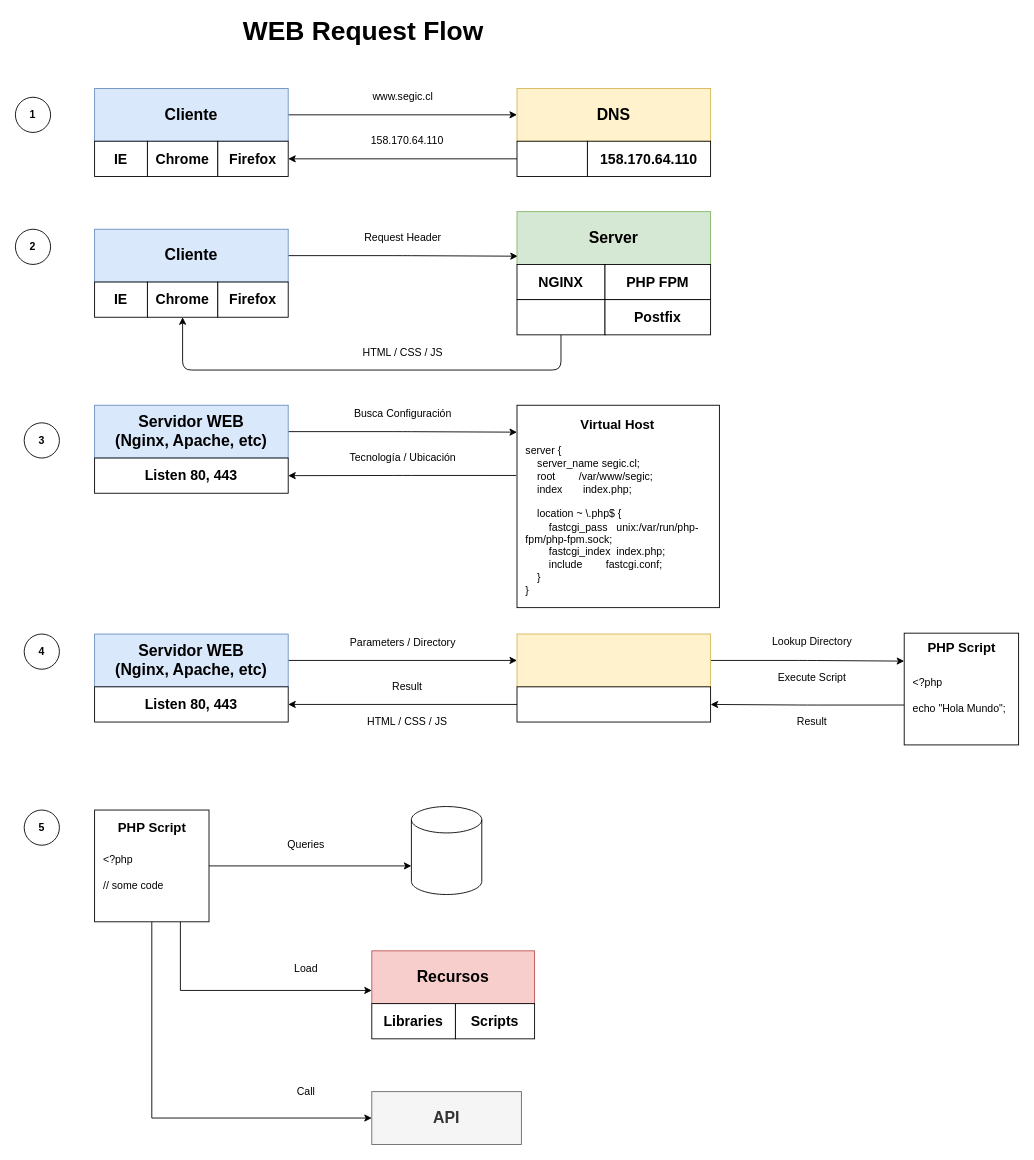
Image size: 1034x1160. Some labels were removed from this diagram. The shapes that lost their labels are listed below. From the top down, each one's centre as x and y in pixels, then its label:
the point at 551,158: Dominio
the point at 560,317: MySQL
the point at 613,660: PHP-FPM
the point at 613,704: Execute Scripts
the point at 446,850: MySQL Oracle PostgreSQL
